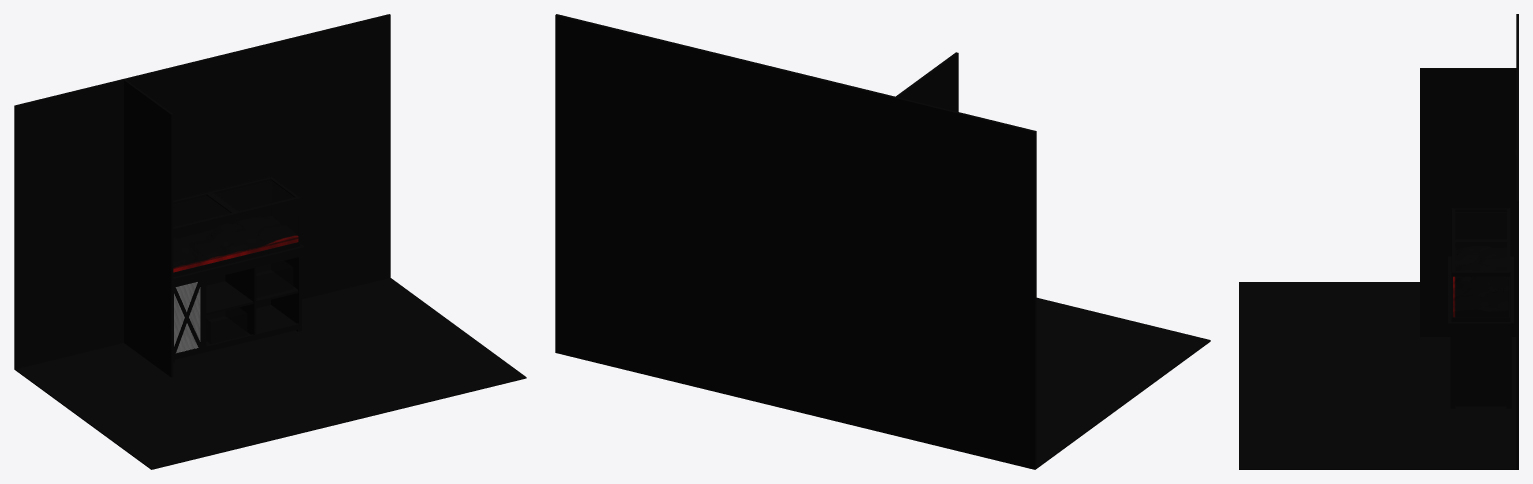
Rendered from tank.glb.
The picture shows the model from 3 angles, left to right: view 1: azimuth 30°, elevation 25°; view 2: azimuth 150°, elevation 25°; view 3: azimuth 270°, elevation 25°; orthographic projection. The views are drawn at different scales.
Parts seen in each view (by area): view 1: Wall, Floor, SideWall, StandBody, GlassFront, Sand, Backing, StandBins, WaterSurface, StandMesh, RimTop, StandTop (+1 smaller); view 2: Wall, Floor, SideWall; view 3: Floor, SideWall, StandBody, Sand, WaterSurface, GlassRight, Wall, RimTop, StandTop, RimBottom.
Part boxes in pixels (left/top/right/bottom): Wall: left=14, top=14, right=390, bottom=369; Floor: left=14, top=278, right=526, bottom=469; SideWall: left=124, top=79, right=173, bottom=377; StandBody: left=173, top=252, right=301, bottom=362; GlassFront: left=174, top=202, right=299, bottom=271; Sand: left=173, top=216, right=298, bottom=272; Backing: left=173, top=176, right=271, bottom=237; StandBins: left=206, top=261, right=293, bottom=343; WaterSurface: left=173, top=181, right=293, bottom=226; StandMesh: left=174, top=282, right=200, bottom=352; RimTop: left=173, top=177, right=300, bottom=232; StandTop: left=173, top=243, right=305, bottom=283; Wall: left=555, top=14, right=1036, bottom=468; Floor: left=555, top=297, right=1210, bottom=469; SideWall: left=894, top=52, right=958, bottom=434; Floor: left=1239, top=282, right=1518, bottom=469; SideWall: left=1420, top=68, right=1518, bottom=336; StandBody: left=1450, top=328, right=1511, bottom=408; Sand: left=1453, top=246, right=1508, bottom=317; WaterSurface: left=1455, top=212, right=1506, bottom=270; GlassRight: left=1453, top=277, right=1508, bottom=316; Wall: left=1516, top=14, right=1518, bottom=468; RimTop: left=1451, top=208, right=1509, bottom=276; StandTop: left=1448, top=256, right=1513, bottom=327; RimBottom: left=1451, top=276, right=1510, bottom=321.
Size of the model in its own units: 360 by 242 by 228.
Materials: 17 (2 with a texture image).
